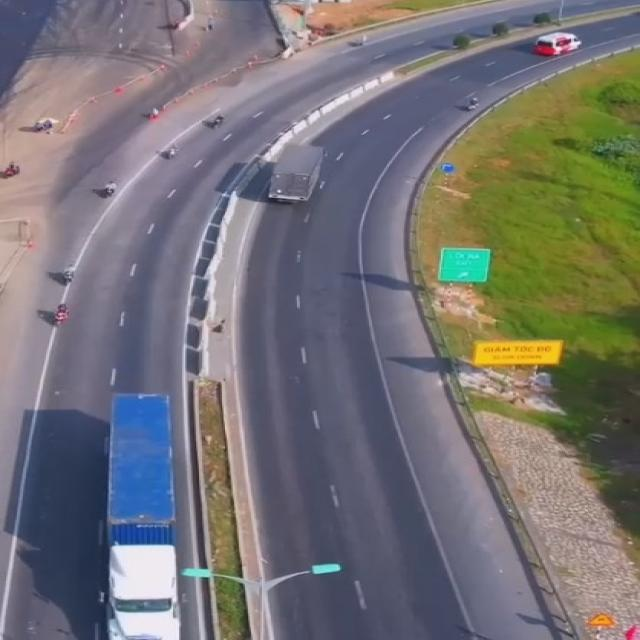bus: (533, 31, 582, 55)
truck: (106, 391, 181, 640), (268, 142, 323, 205)
